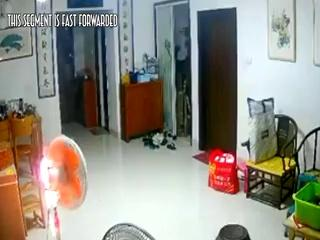Fire: (36, 148, 61, 214)
